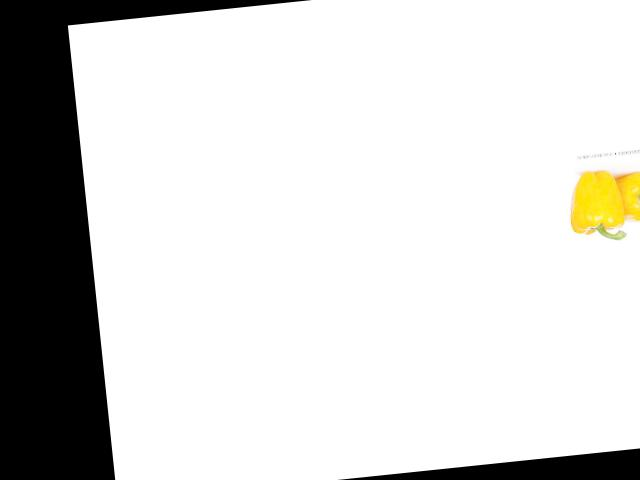bell_pepper: (612, 167, 640, 227)
